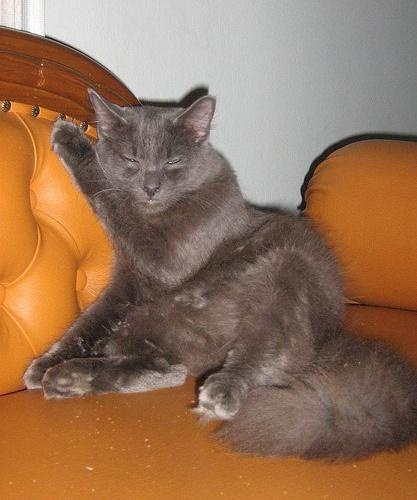cat: (23, 86, 417, 462)
